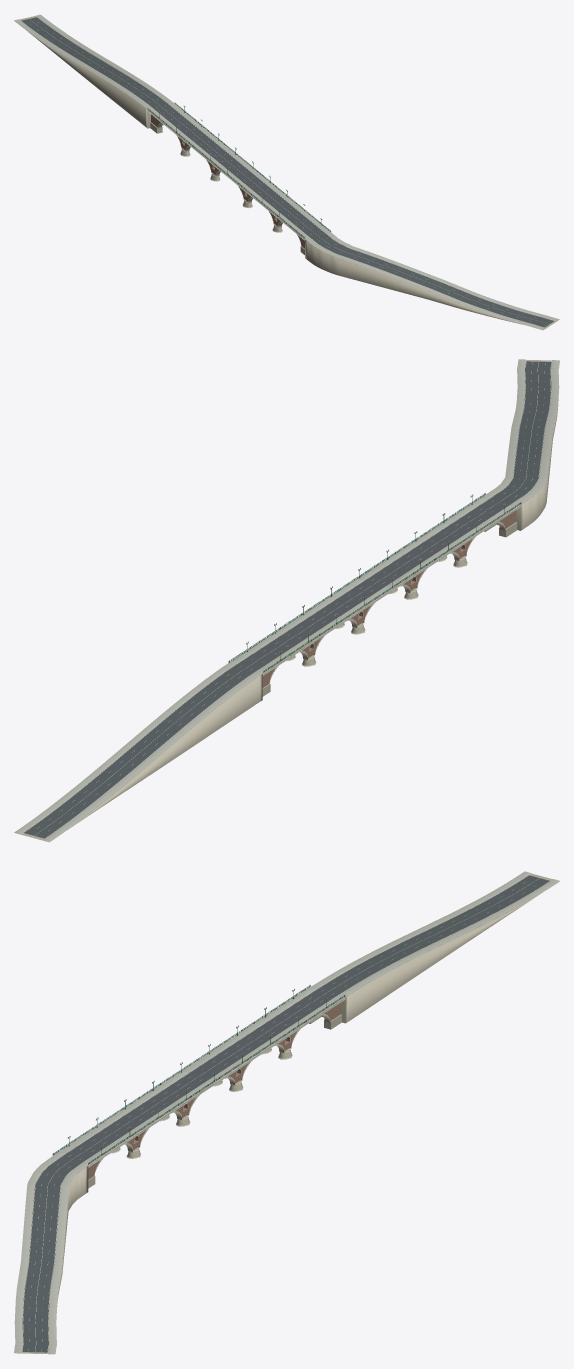
The model's file is pont-des-catalans-near.glb.
3 views of the same model, one above another, from view 1: azimuth 30°, elevation 25°; view 2: azimuth 150°, elevation 25°; view 3: azimuth 330°, elevation 25° (orthographic). The views are drawn at different scales.
Parts seen in each view (by area): view 1: pont-des-catalans-0-asphalt, pont-des-catalans-1-asphalt, pont-des-catalans-0-concrete, pont-des-catalans-1-concrete, pont-des-catalans-0-stone, pont-des-catalans-1-stone, pont-des-catalans-0-iron; view 2: pont-des-catalans-1-asphalt, pont-des-catalans-0-asphalt, pont-des-catalans-1-concrete, pont-des-catalans-0-concrete, pont-des-catalans-1-stone, pont-des-catalans-0-stone, pont-des-catalans-0-brick, pont-des-catalans-0-iron, pont-des-catalans-1-iron; view 3: pont-des-catalans-0-asphalt, pont-des-catalans-1-asphalt, pont-des-catalans-0-concrete, pont-des-catalans-1-concrete, pont-des-catalans-1-stone, pont-des-catalans-0-stone, pont-des-catalans-0-brick, pont-des-catalans-0-iron, pont-des-catalans-1-iron, pont-des-catalans-0-paint.
Part boxes in pixels (x1,y1,x2,y2): pont-des-catalans-0-asphalt: [232, 169, 553, 327]; pont-des-catalans-1-asphalt: [21, 17, 247, 172]; pont-des-catalans-0-concrete: [226, 168, 559, 330]; pont-des-catalans-1-concrete: [14, 14, 251, 175]; pont-des-catalans-0-stone: [215, 171, 558, 329]; pont-des-catalans-1-stone: [19, 16, 220, 181]; pont-des-catalans-0-iron: [226, 161, 331, 238]; pont-des-catalans-1-asphalt: [24, 581, 384, 838]; pont-des-catalans-0-asphalt: [364, 361, 551, 586]; pont-des-catalans-1-concrete: [14, 579, 391, 842]; pont-des-catalans-0-concrete: [358, 359, 559, 591]; pont-des-catalans-1-stone: [14, 606, 369, 841]; pont-des-catalans-0-stone: [363, 360, 558, 623]; pont-des-catalans-0-brick: [262, 510, 516, 687]; pont-des-catalans-0-iron: [357, 493, 521, 588]; pont-des-catalans-1-iron: [228, 577, 391, 672]; pont-des-catalans-0-asphalt: [22, 1073, 209, 1352]; pont-des-catalans-1-asphalt: [189, 875, 549, 1078]; pont-des-catalans-0-concrete: [14, 1071, 216, 1353]; pont-des-catalans-1-concrete: [182, 871, 559, 1083]; pont-des-catalans-1-stone: [213, 873, 552, 1091]; pont-des-catalans-0-stone: [14, 1077, 235, 1354]; pont-des-catalans-0-brick: [88, 1003, 340, 1179]; pont-des-catalans-0-iron: [52, 1062, 216, 1164]; pont-des-catalans-1-iron: [182, 985, 345, 1080]; pont-des-catalans-0-paint: [22, 1073, 200, 1353].
Size of the model in its own units: 111 by 22.02 by 672.
